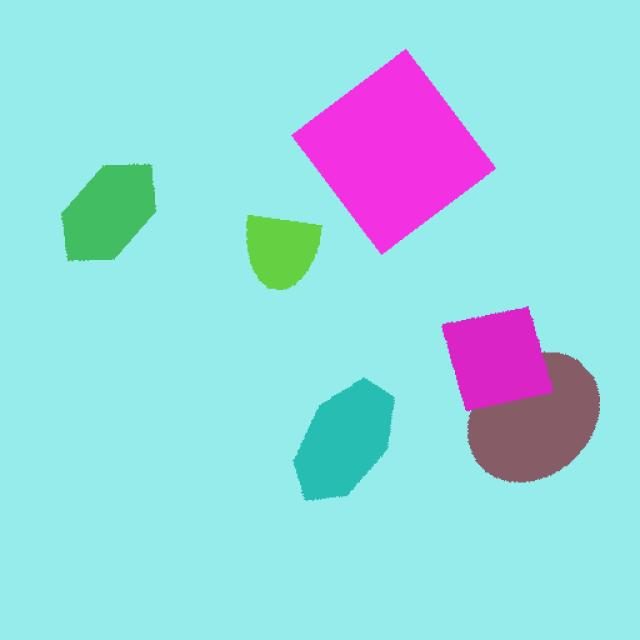Circle: (454, 335, 606, 489)
Heptagon: (278, 362, 407, 520)
Hexagon: (47, 153, 167, 304)
Semicircle: (208, 204, 324, 303)
square: (289, 43, 504, 261), (421, 300, 555, 417)
